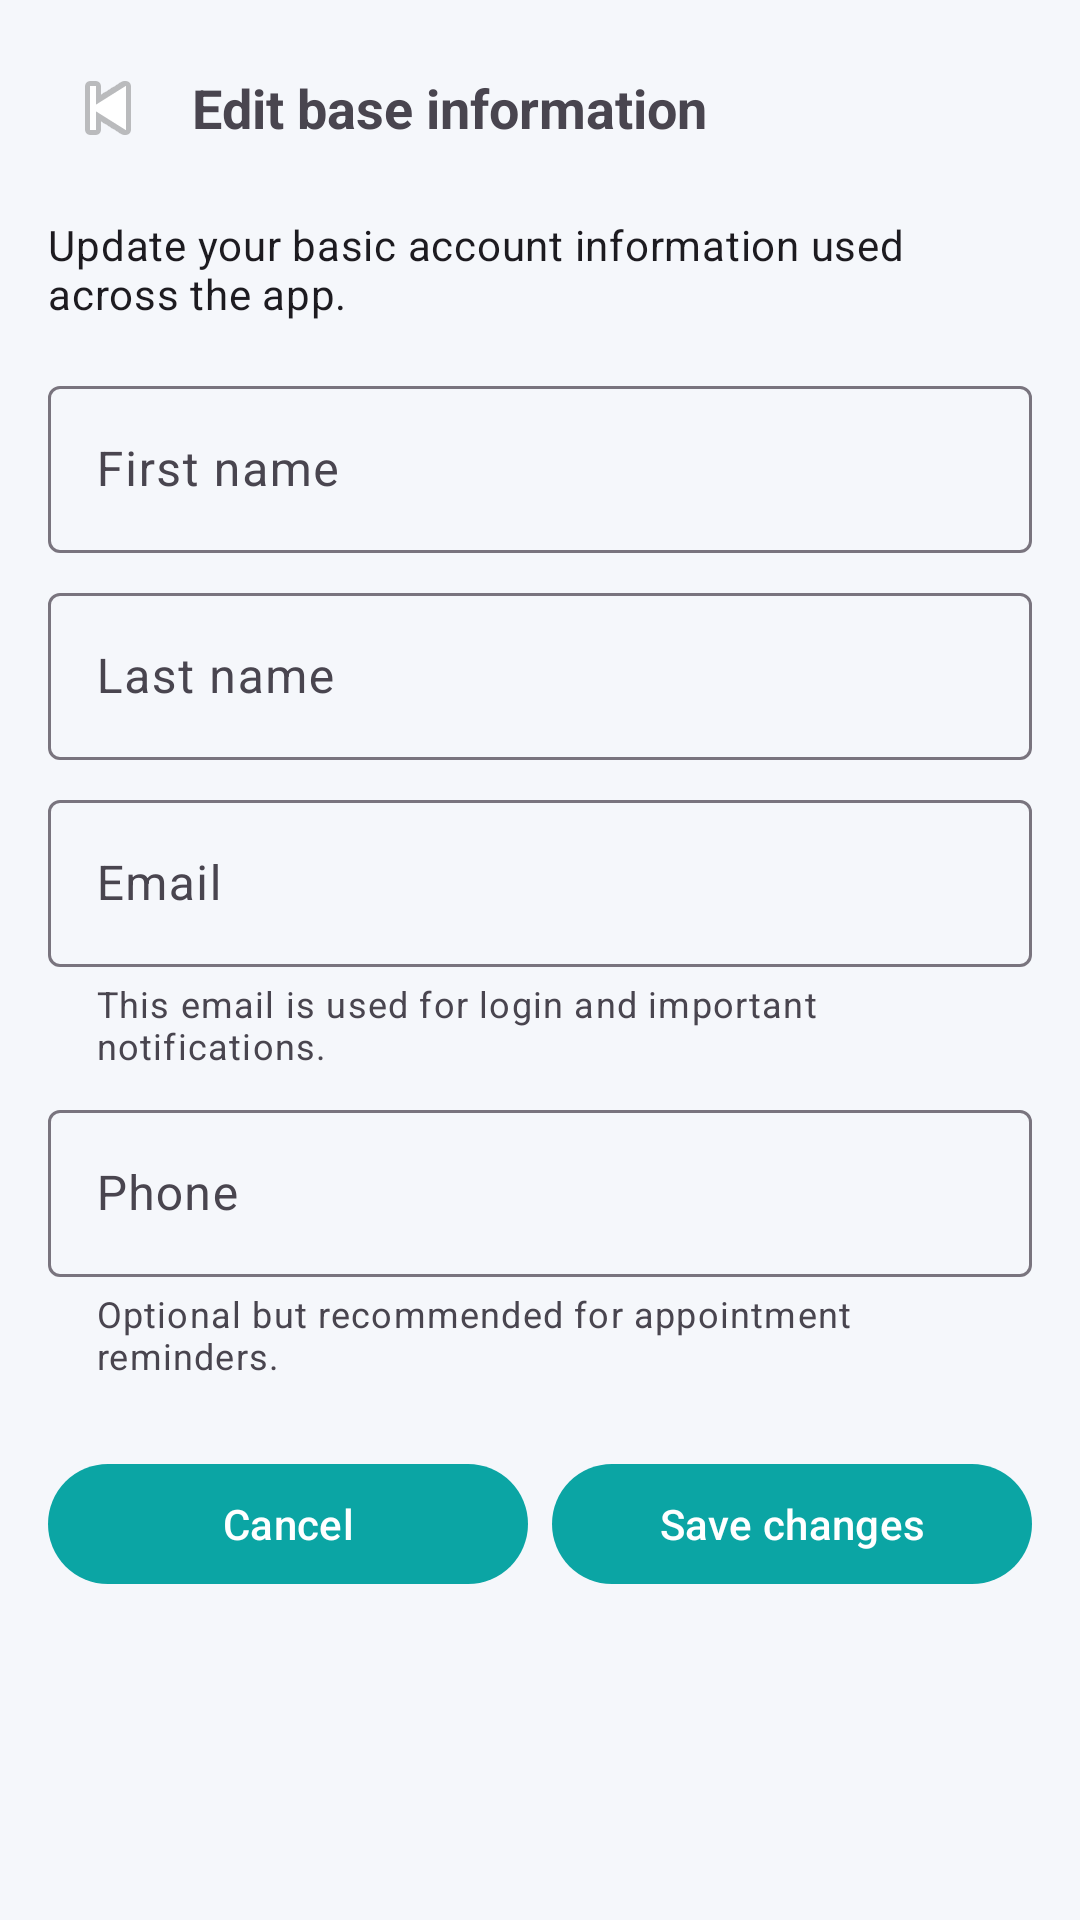

Icon click points for this 1080 × 1920 phone screenshot, format [x,y]:
Back to profile: [108,108]
